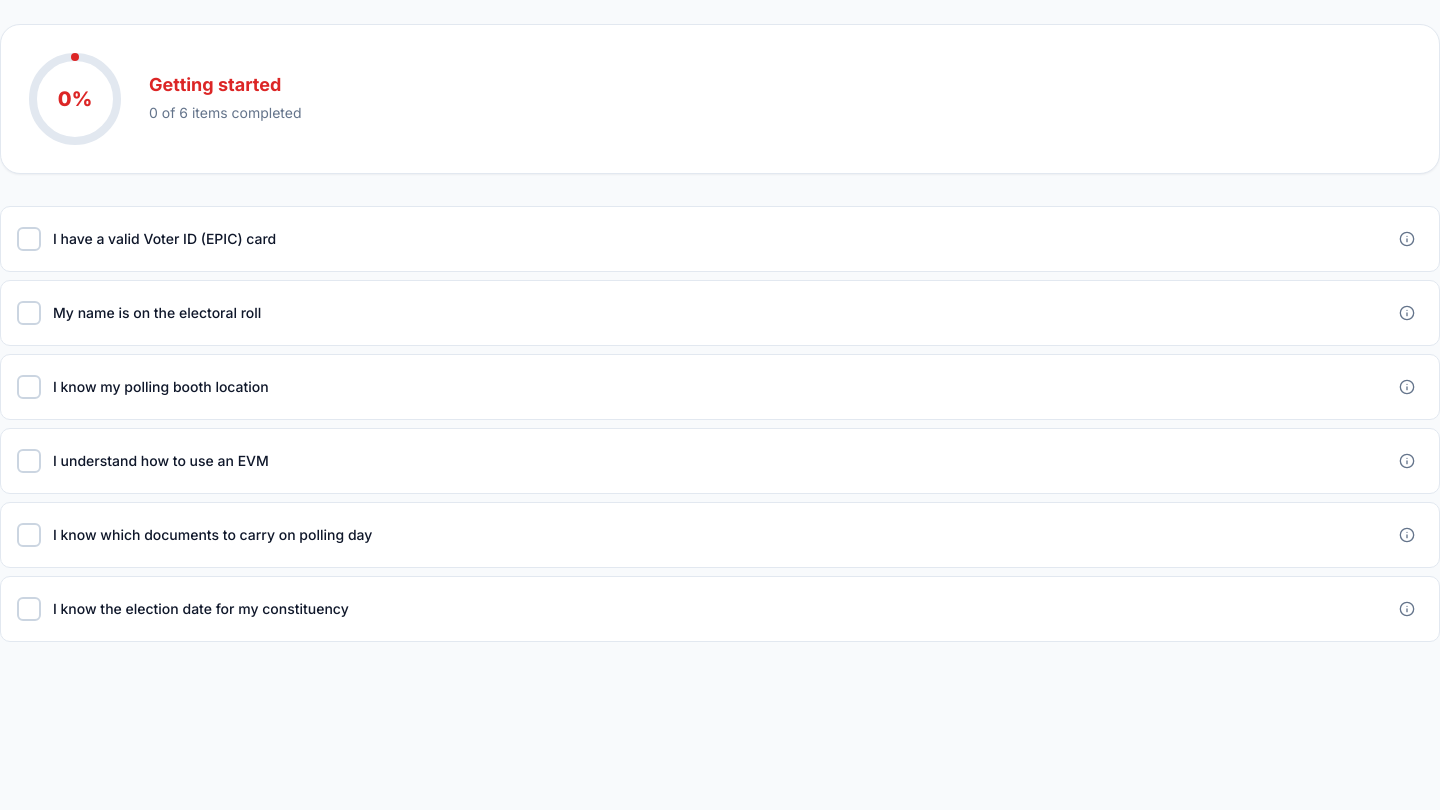
Test: ReadinessChecklist Component › expands and collapses item details when info button is clicked
This screenshot has width=1440, height=810.
Click the button named "More info about:": (1407, 239) [1391,223,1423,255]
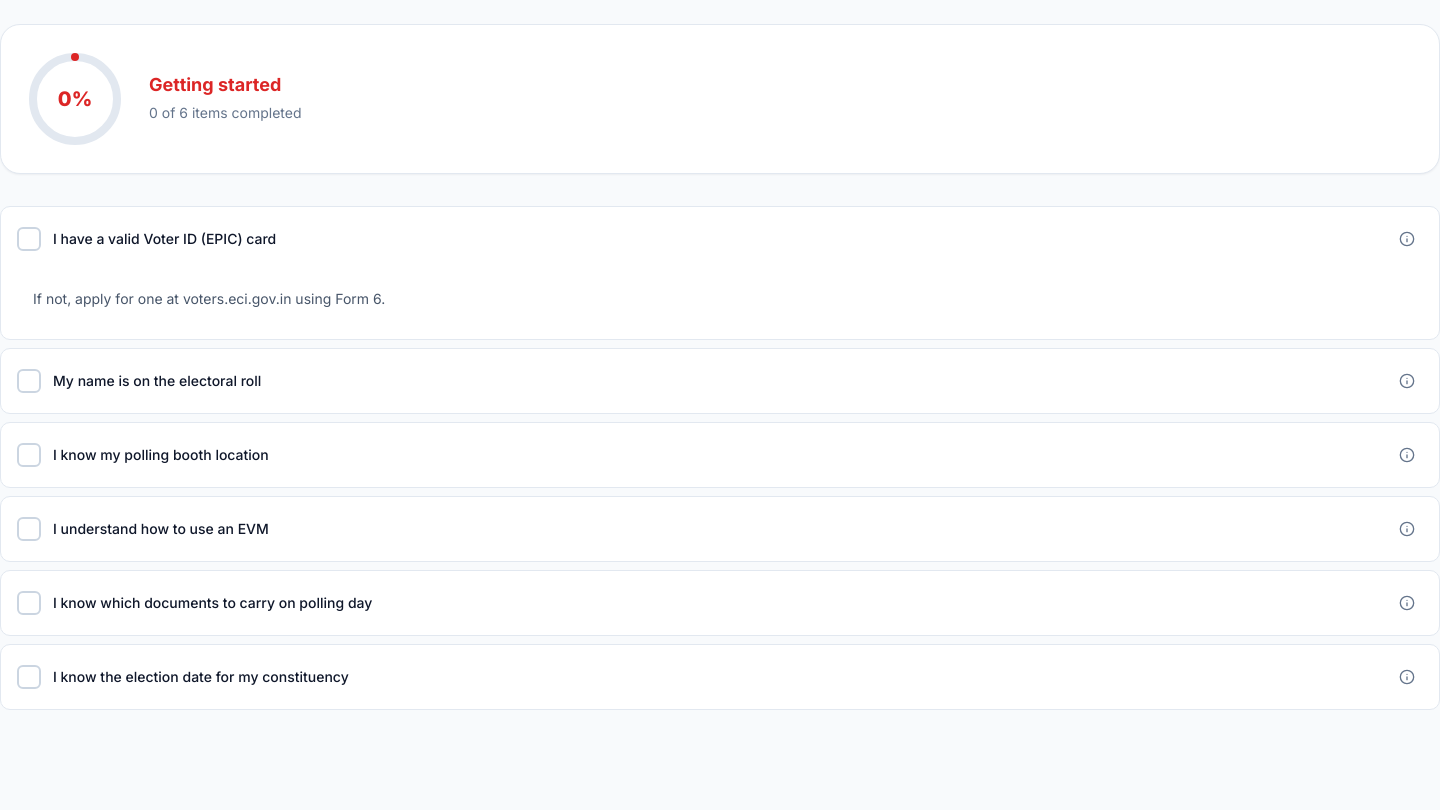
Expected: the text "If not, apply for one at voters.eci.gov.in using Form 6." is shown, [33,290,385,307]
Click the button named "More info about:": (1407, 239) [1391,223,1423,255]
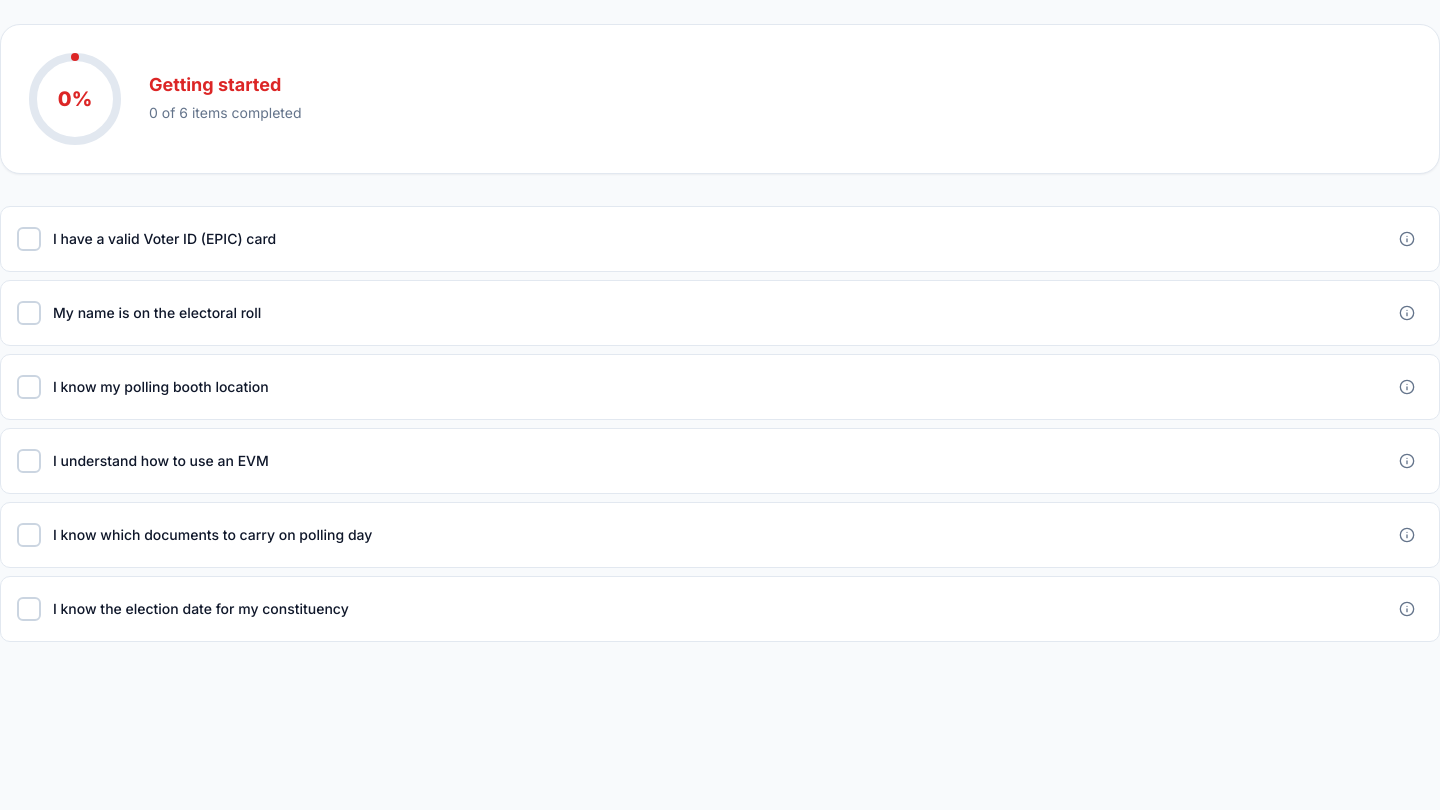
Expected: the text "If not, apply for one at voters.eci.gov.in using Form 6." is gone
